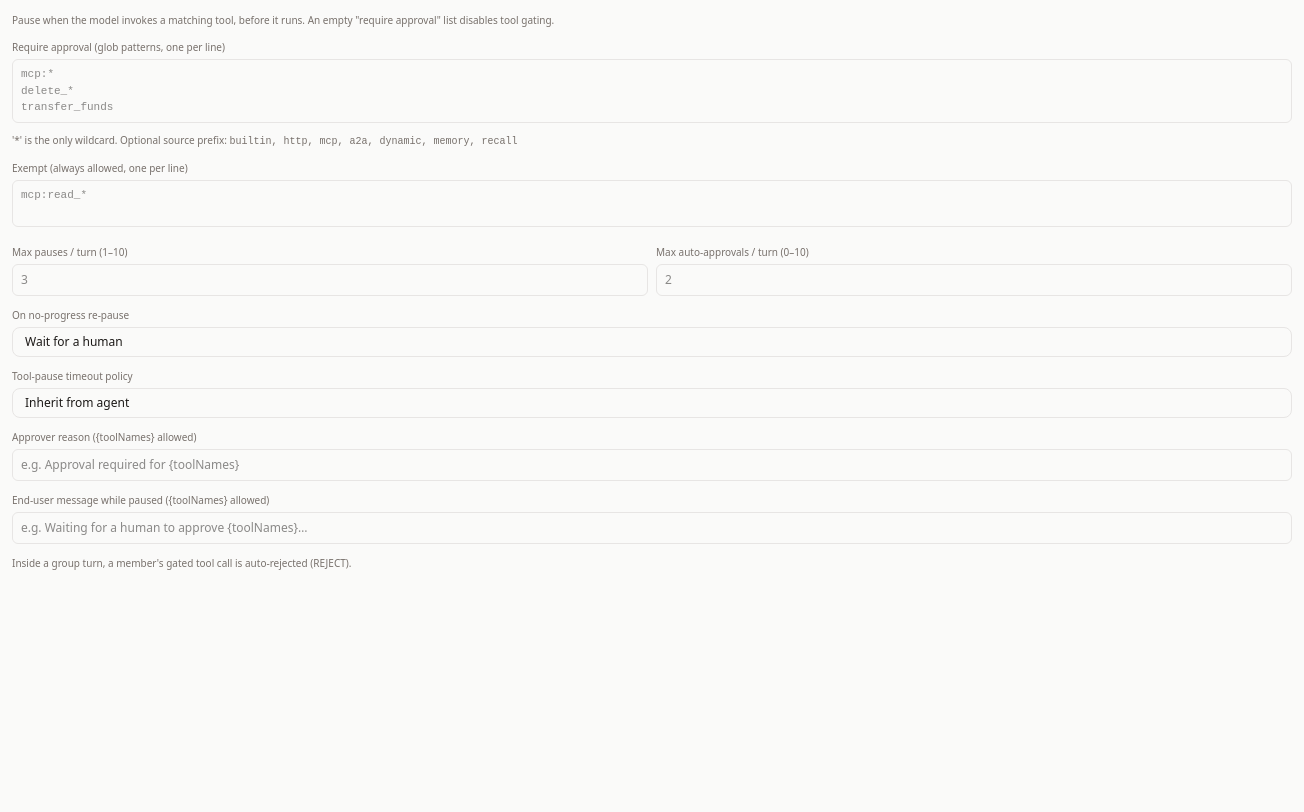
Test case: ToolApprovalsEditor › shows an inline error for an invalid glob pattern
Type "bad pattern" into the text box with test id "hitl-tool-require" at (652, 91), box top-left (12, 59), bottom-right (1292, 123)
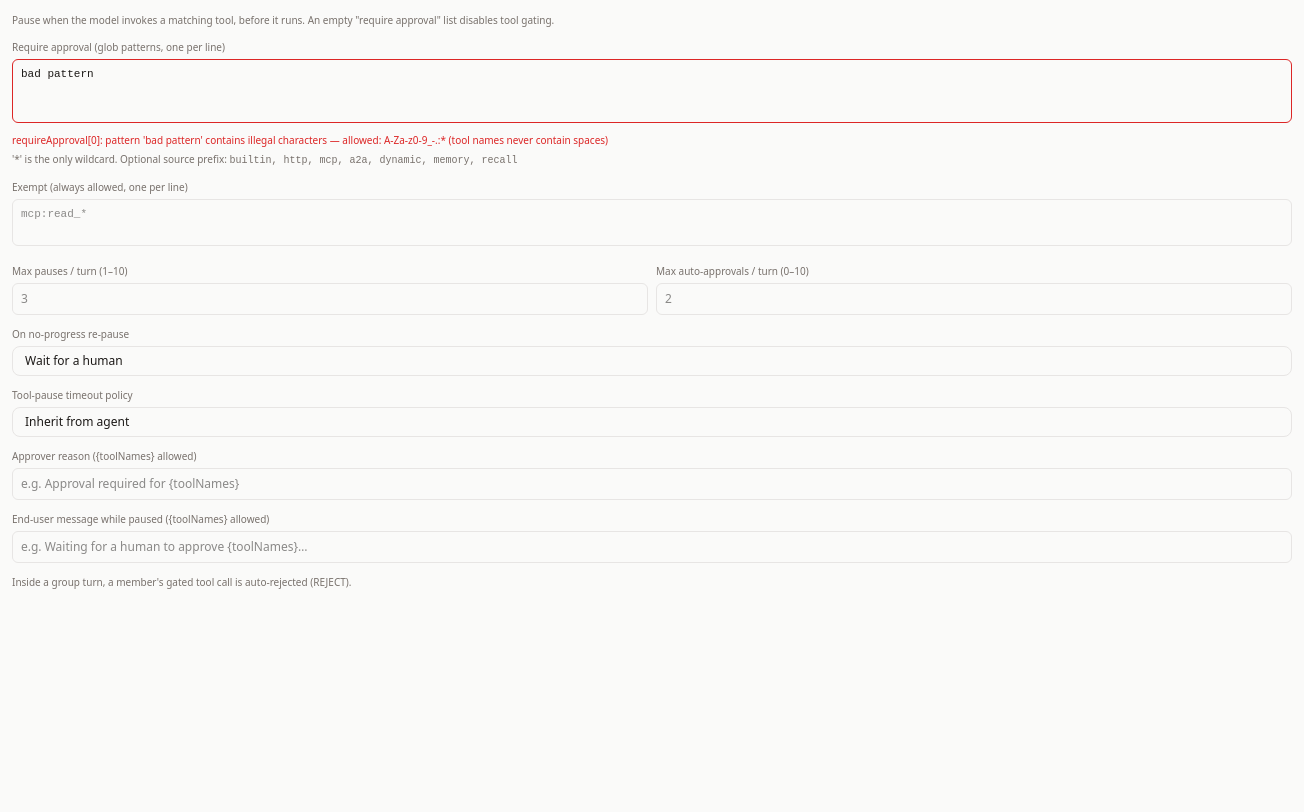
Result: the text "illegal characters" is shown at top-left (12, 133), bottom-right (608, 147)
